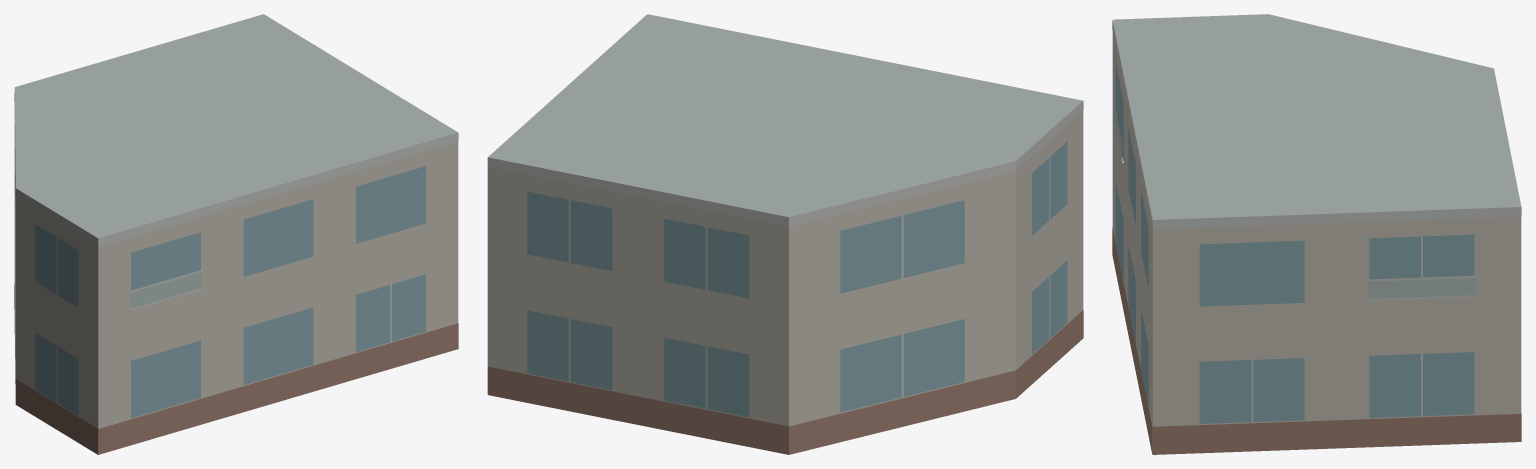
Rendered from survey-upis-32701314.glb.
3 views of the same model, side by side, from view 1: azimuth 30°, elevation 25°; view 2: azimuth 150°, elevation 25°; view 3: azimuth 270°, elevation 25° (orthographic). The views are drawn at different scales.
Visible parts, largest first — view 1: survey-upis-32701314.tmp; view 2: survey-upis-32701314.tmp; view 3: survey-upis-32701314.tmp.
Part boxes in pixels (x1,y1,x2,y2): survey-upis-32701314.tmp: [14, 14, 458, 454]; survey-upis-32701314.tmp: [487, 14, 1083, 454]; survey-upis-32701314.tmp: [1112, 14, 1521, 454].
Size of the model in its own units: 11.48 by 6.1 by 9.64.
